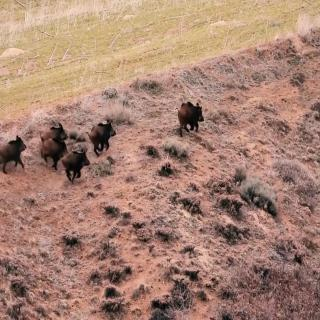Pig: (174, 91, 215, 155), (53, 144, 102, 192), (0, 131, 35, 183), (90, 110, 121, 162), (36, 132, 70, 174)
